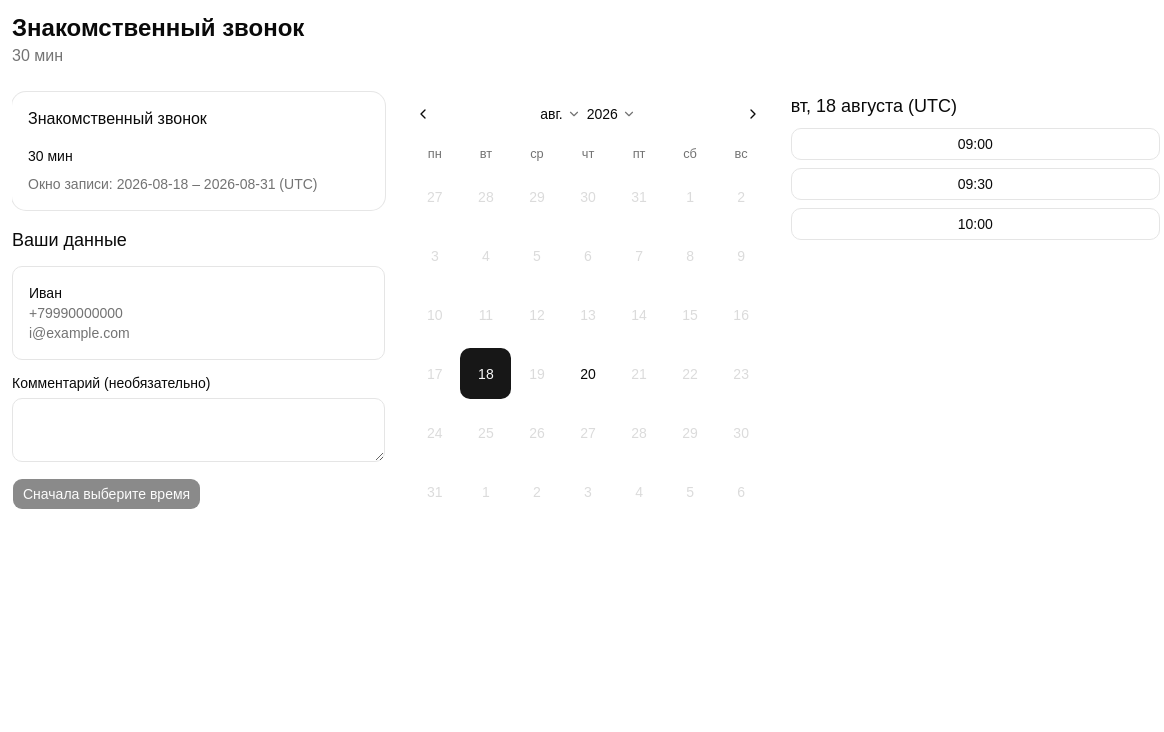
Scenario: BookPage › создаёт бронь, используя данные профиля гостя
Click the button "09:00" at (975, 144), box [791,128,1160,160]
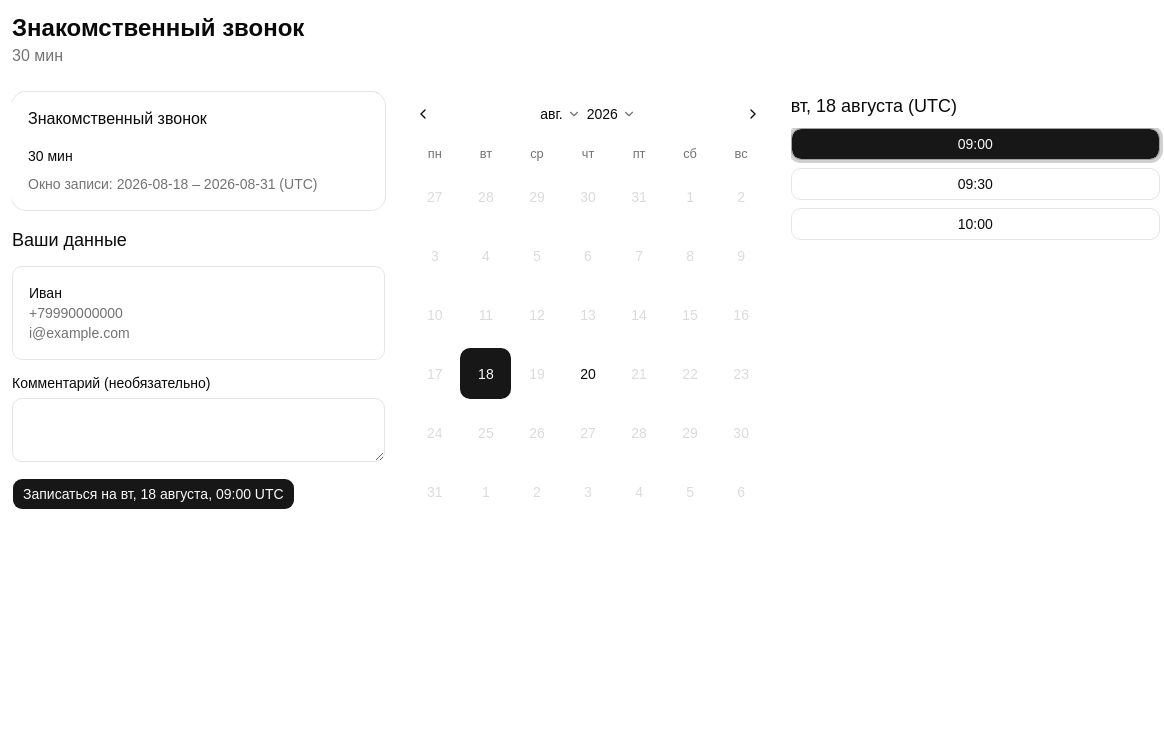
Click the button "Записаться на вт, 18 августа, 09:00 UTC" at (153, 494), box [12,478,295,510]
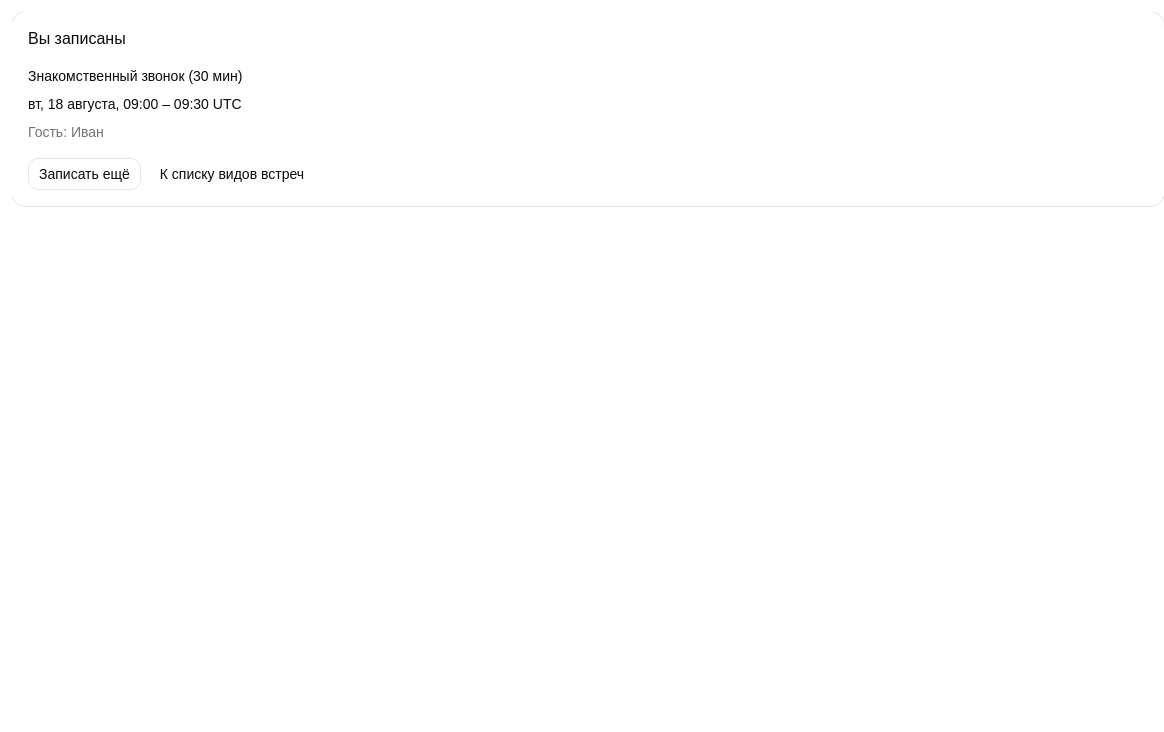
Result: the text "Вы записаны" is shown at [28,30,126,47]
